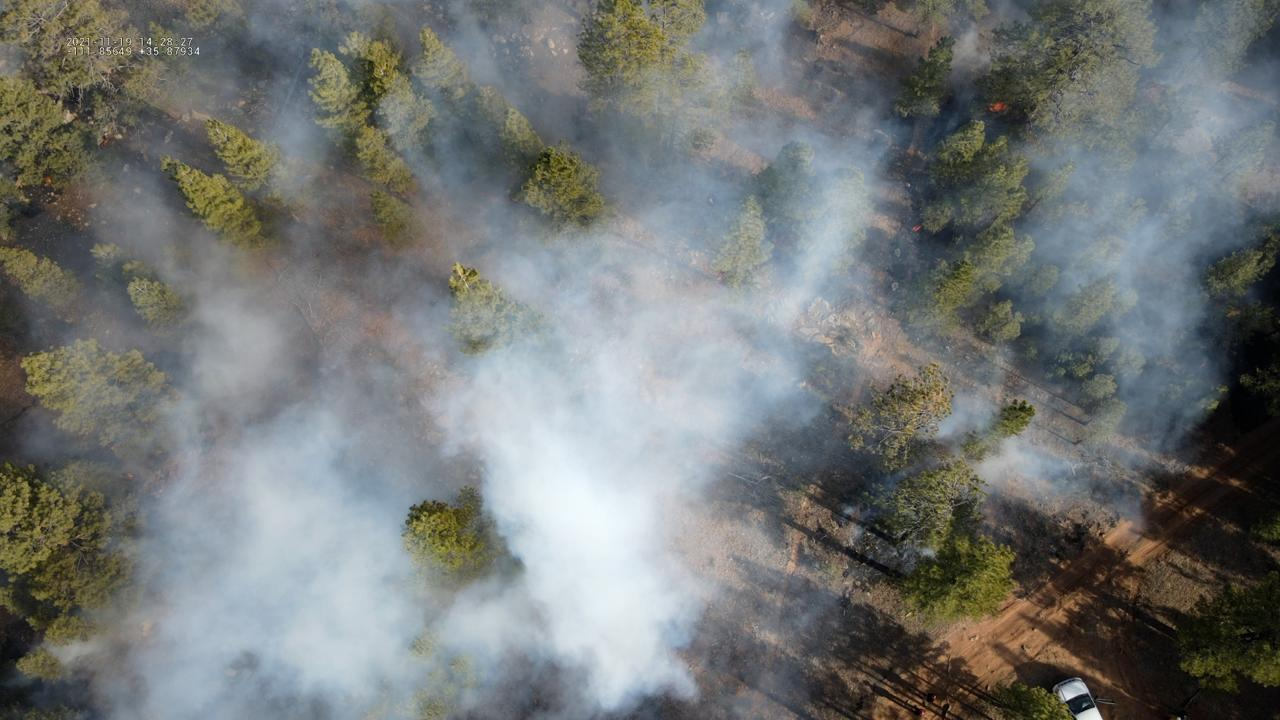fire: (986, 100, 1011, 113), (911, 223, 922, 233), (44, 176, 53, 185)
smoke: (0, 0, 1280, 720)
